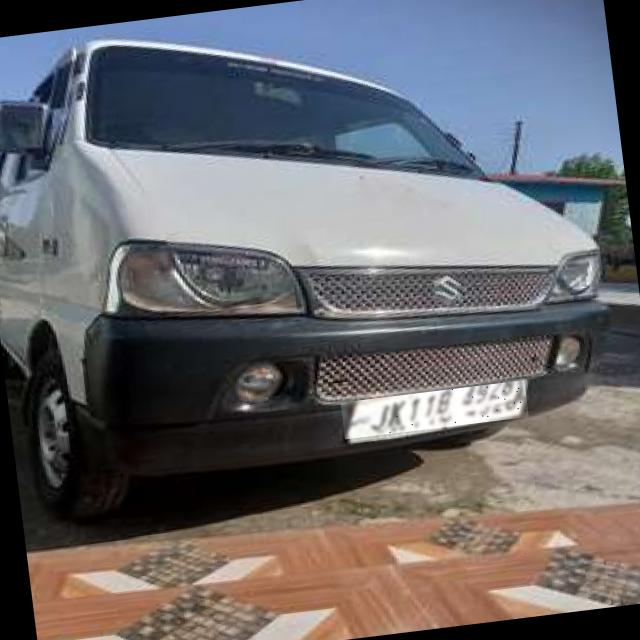Plate: (341, 381, 529, 440)
